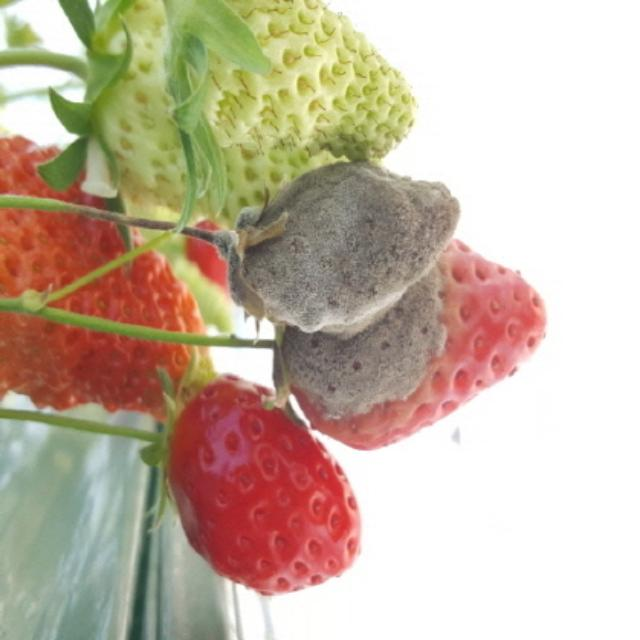Gray Mold: (205, 160, 462, 342), (262, 265, 450, 429)
